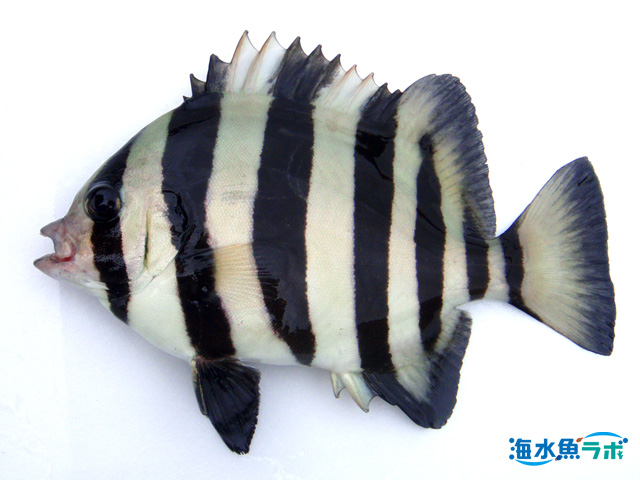azi: (36, 51, 611, 427)
